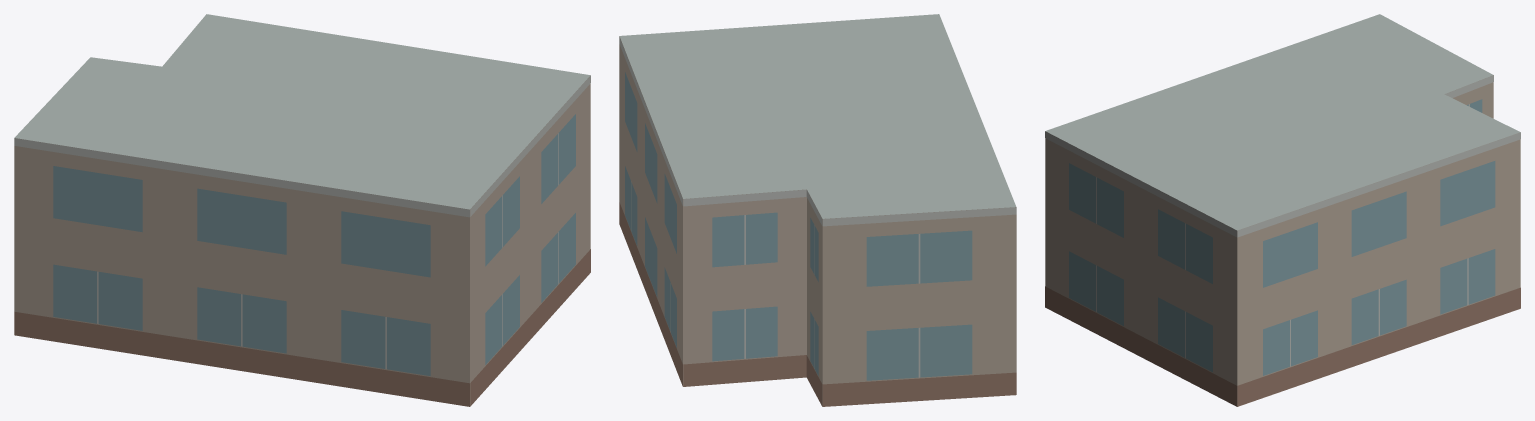
Rendered from survey-upis-32849199.glb.
3 views of the same model, side by side, from view 1: azimuth 30°, elevation 25°; view 2: azimuth 150°, elevation 25°; view 3: azimuth 270°, elevation 25° (orthographic). The views are drawn at different scales.
Visible parts, largest first — view 1: survey-upis-32849199.tmp; view 2: survey-upis-32849199.tmp; view 3: survey-upis-32849199.tmp.
Part boxes in pixels (bbox=[...]): survey-upis-32849199.tmp: bbox=[14, 14, 590, 406]; survey-upis-32849199.tmp: bbox=[619, 14, 1016, 406]; survey-upis-32849199.tmp: bbox=[1045, 14, 1520, 406].
Bounding box in the file's own units: 16.08 × 6.1 × 14.92.
